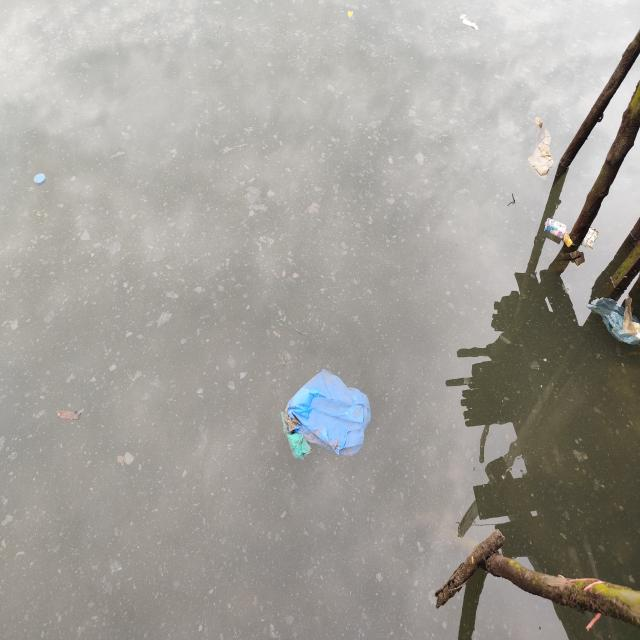Bungkus Makanan: (584, 226, 600, 251)
Kantong Plastik: (283, 370, 373, 472), (589, 293, 640, 347), (529, 117, 555, 179)
